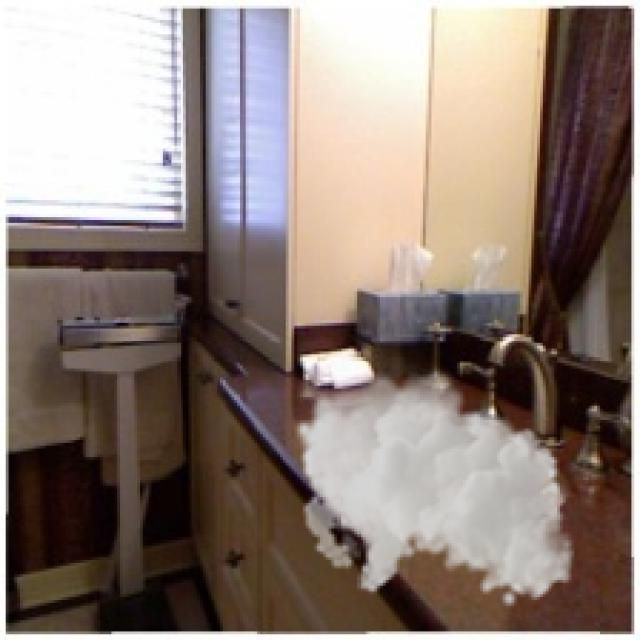smoke: (294, 363, 574, 608)
